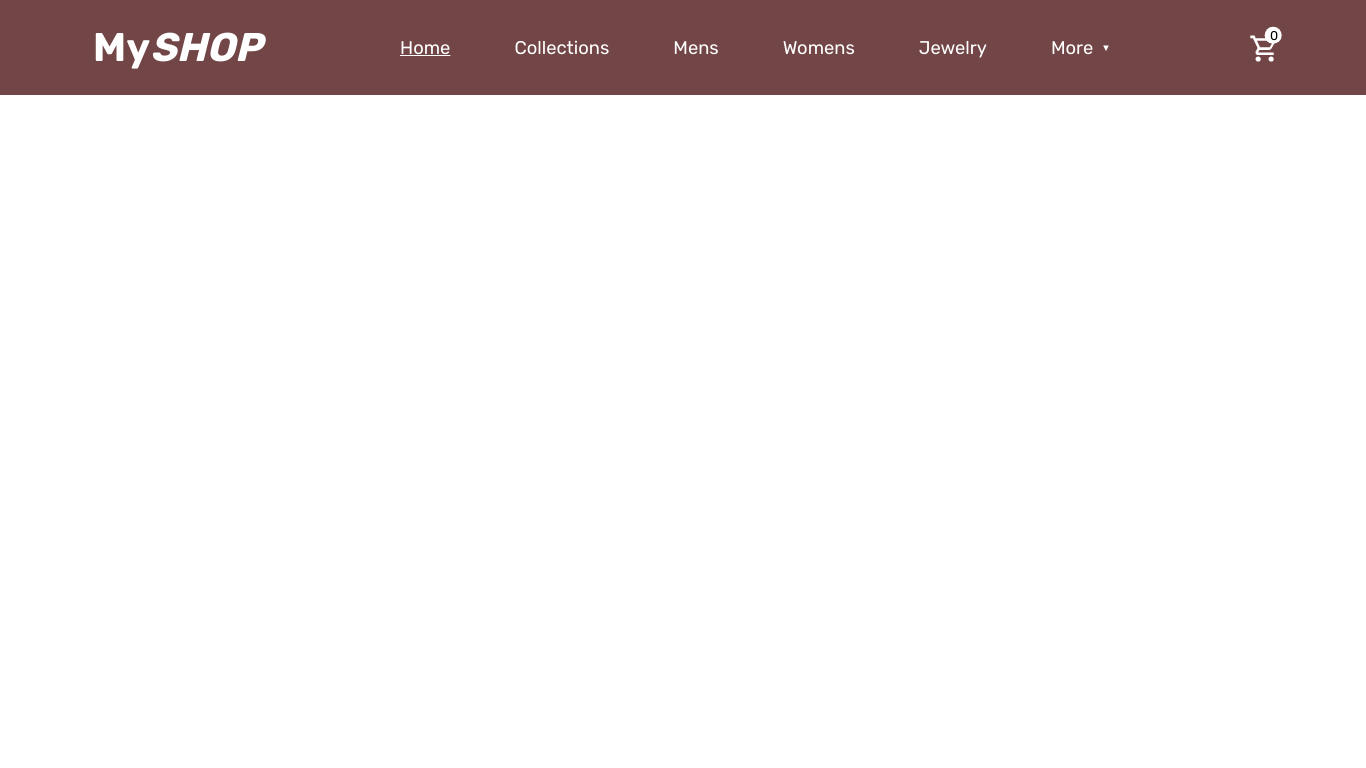
Test: side-cart › close button closes
Click the icon with test id "cart-icon". click: (1264, 49)
box: [1249,33,1280,64]
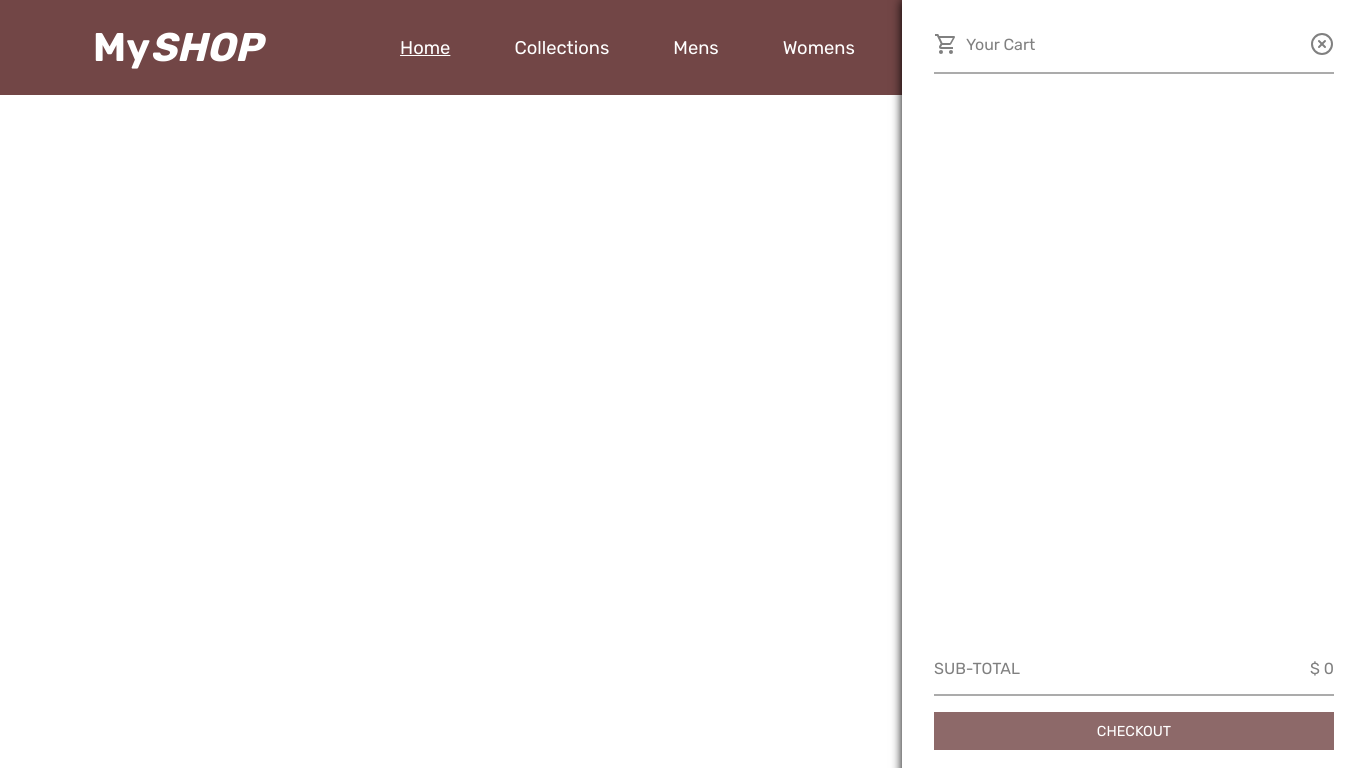
Result: the text "Your Cart" is shown at [934,32,1035,56]
Click the icon with test id "close-side-cart". click: (1322, 44)
box: [1310,32,1334,56]
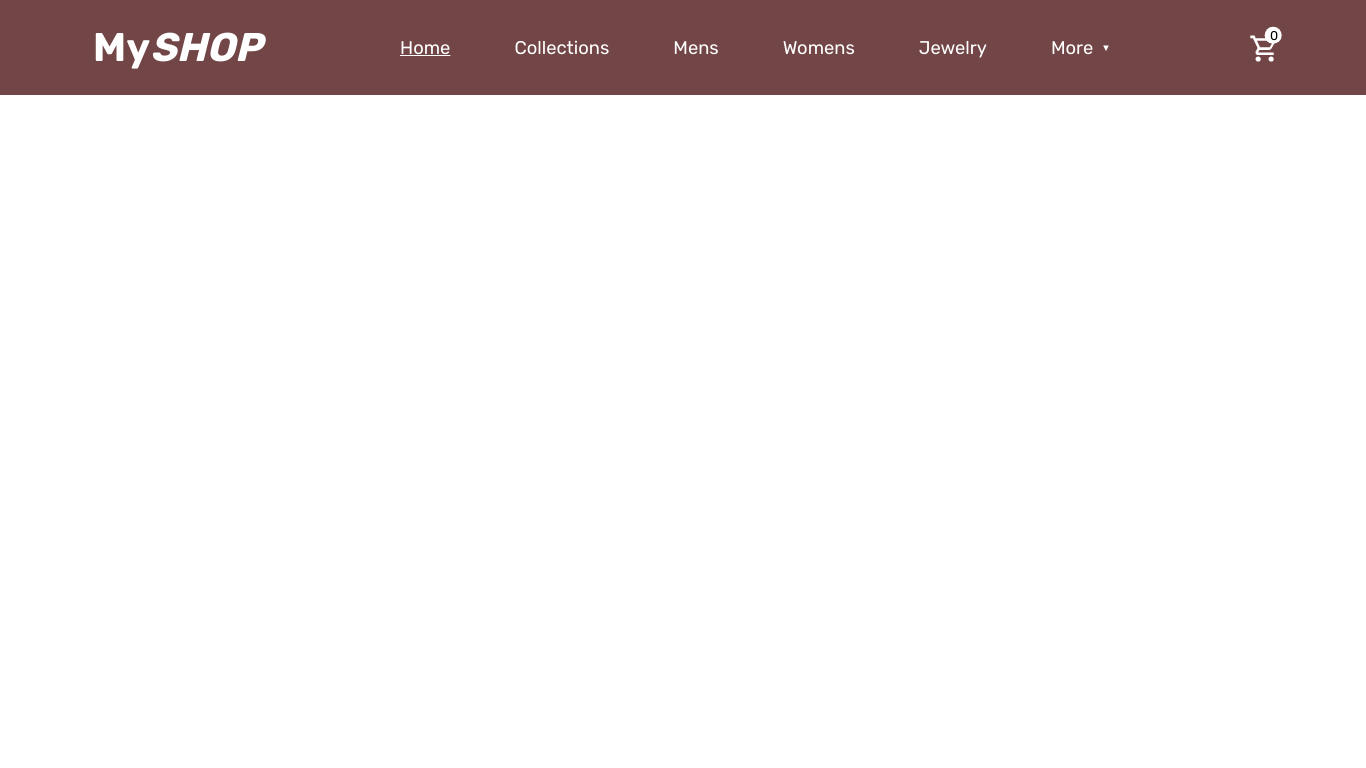
Result: the text "Your Cart" is gone
